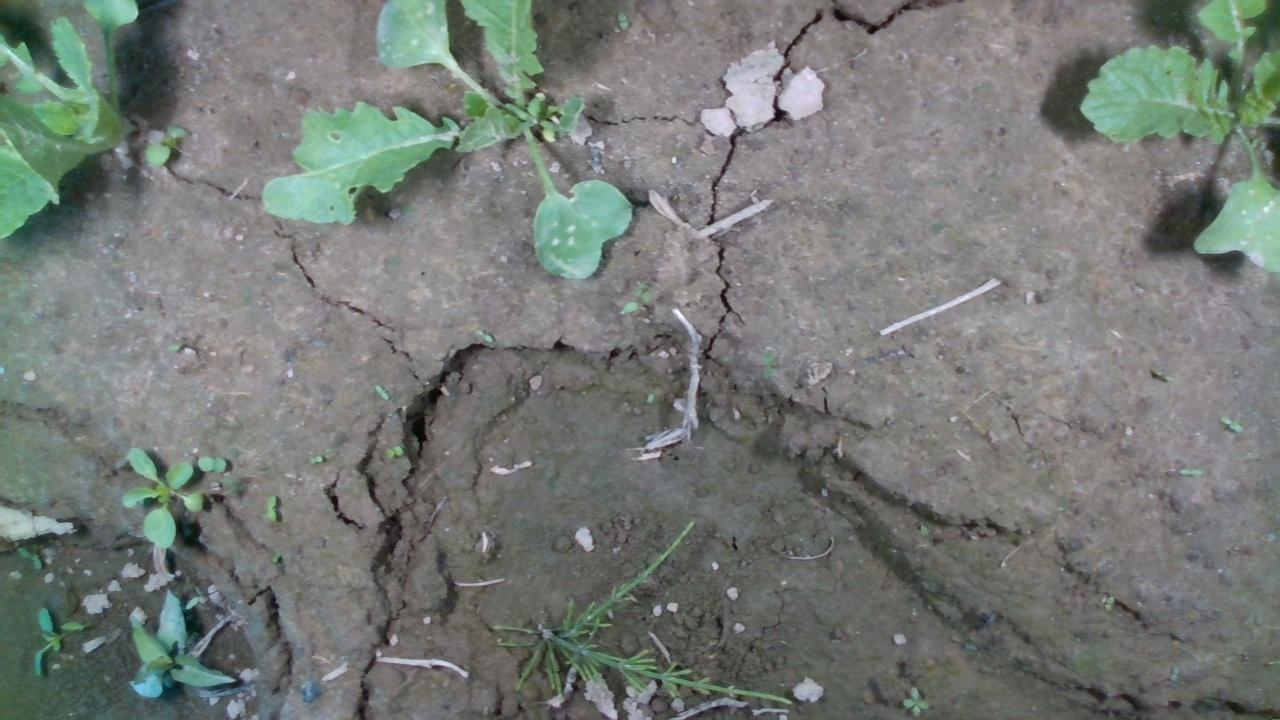weed: (615, 286, 656, 314), (901, 684, 929, 716), (195, 453, 228, 473), (1217, 414, 1244, 434), (371, 377, 391, 401), (262, 492, 277, 524), (473, 329, 495, 344), (381, 445, 403, 457), (1176, 466, 1204, 475), (616, 10, 629, 29), (306, 453, 323, 465)
